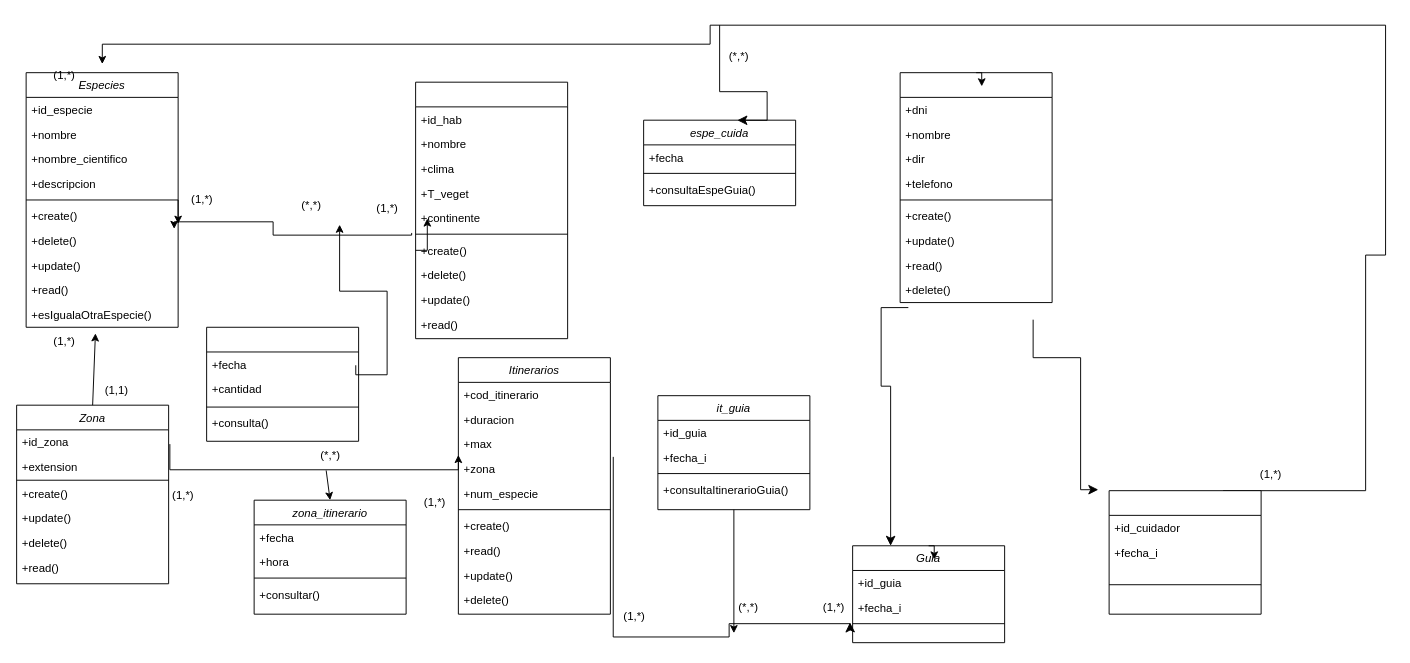
The diagram is 1410 pixels wide and 663 high, and some of its shapes have lost their labels. The shapes that lost their labels are listed below. From the top down, each one's box as (x1, y1, x2, y2) in pixels, then its label:
(899, 72, 1052, 303): Empleados (Abstract)
(415, 81, 568, 339): Habitats
(206, 326, 359, 441): EspecieHabitat
(1108, 490, 1261, 614): Cuidadores
